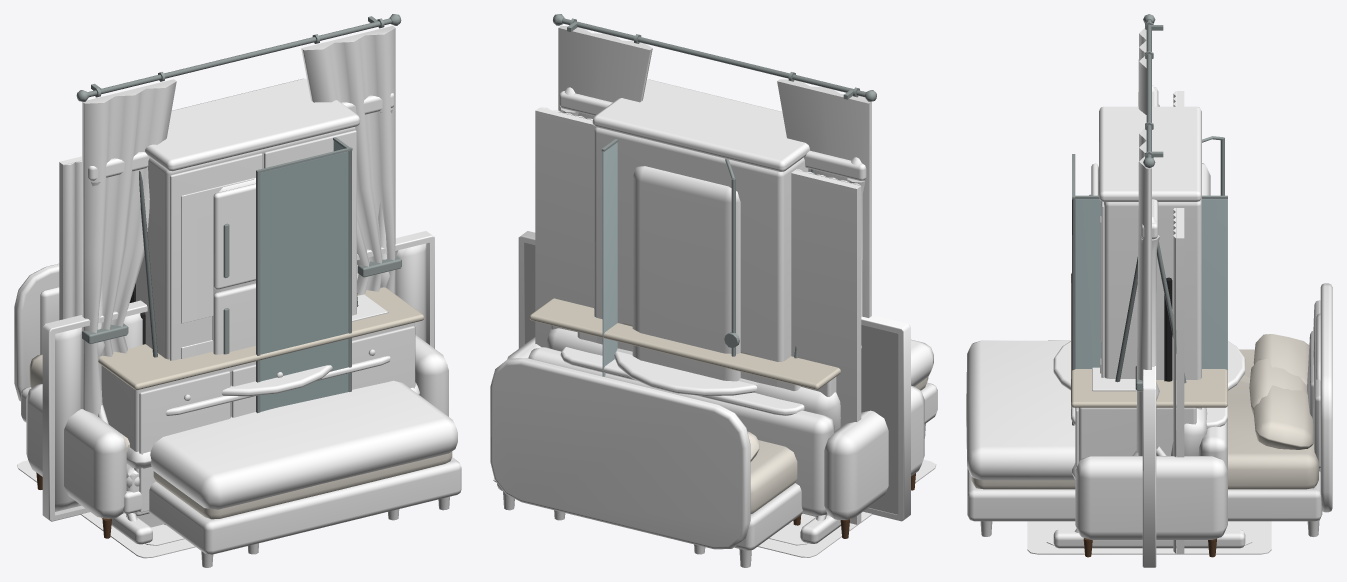
Rendered from interior.glb.
The picture shows the model from 3 angles, left to right: view 1: azimuth 30°, elevation 25°; view 2: azimuth 150°, elevation 25°; view 3: azimuth 270°, elevation 25°; orthographic projection. The views are drawn at different scales.
Visible parts, largest first — view 1: curtains__fabric, wardrobe__wood, bed-double__fabric, shower__glass, bed-double__wood, kitchen-island__accent, sofa-3__fabric, fridge__accent, bed-panel__fabric, kitchen-island__stone, bed-panel__wood, tv-panel__wood (+10 smaller); view 2: bed-double__wood, wardrobe__wood, tv-panel__wood, fridge__accent, sofa-3__fabric, curtains__fabric, kitchen-island__stone, bed-panel__fabric, bed-panel__wood, shower__glass, jhula__wood, dining-table-round__wood (+6 smaller); view 3: wardrobe__wood, bed-double__fabric, sofa-3__fabric, bed-double__linen, bed-double__wood, shower__glass, curtains__fabric, kitchen-island__accent, kitchen-island__stone, tv-panel__wood, rug-rect__fabric, jhula__wood (+11 smaller).
Part boxes in pixels (bbox=[...]): curtains__fabric: bbox=[82, 26, 395, 416]; wardrobe__wood: bbox=[136, 78, 360, 360]; bed-double__fabric: bbox=[40, 287, 457, 509]; shower__glass: bbox=[260, 140, 348, 411]; bed-double__wood: bbox=[14, 263, 461, 567]; kitchen-island__accent: bbox=[101, 322, 415, 515]; sofa-3__fabric: bbox=[26, 335, 448, 518]; fridge__accent: bbox=[212, 178, 255, 354]; bed-panel__fabric: bbox=[55, 243, 426, 511]; kitchen-island__stone: bbox=[98, 287, 424, 389]; bed-panel__wood: bbox=[42, 231, 434, 521]; tv-panel__wood: bbox=[59, 156, 81, 320]; bed-double__wood: bbox=[490, 358, 937, 567]; wardrobe__wood: bbox=[592, 79, 809, 386]; tv-panel__wood: bbox=[535, 107, 861, 525]; fridge__accent: bbox=[632, 166, 740, 381]; sofa-3__fabric: bbox=[507, 328, 924, 519]; curtains__fabric: bbox=[558, 25, 871, 317]; kitchen-island__stone: bbox=[529, 298, 840, 389]; bed-panel__fabric: bbox=[524, 242, 898, 514]; bed-panel__wood: bbox=[518, 231, 910, 521]; shower__glass: bbox=[602, 142, 617, 376]; jhula__wood: bbox=[559, 87, 866, 543]; dining-table-round__wood: bbox=[614, 351, 756, 396]; wardrobe__wood: bbox=[1099, 106, 1201, 379]; bed-double__fabric: bbox=[966, 300, 1320, 480]; sofa-3__fabric: bbox=[1072, 407, 1227, 539]; bed-double__linen: bbox=[971, 334, 1318, 489]; bed-double__wood: bbox=[967, 283, 1332, 536]; shower__glass: bbox=[1075, 199, 1227, 370]; curtains__fabric: bbox=[1136, 28, 1151, 456]; kitchen-island__accent: bbox=[1075, 407, 1196, 467]; kitchen-island__stone: bbox=[1071, 273, 1227, 407]; tv-panel__wood: bbox=[1173, 91, 1184, 554]; rug-rect__fabric: bbox=[1027, 521, 1271, 554]; jhula__wood: bbox=[1053, 85, 1245, 548].
Size of the model in its own units: 2.4 by 2.5 by 2.1.
